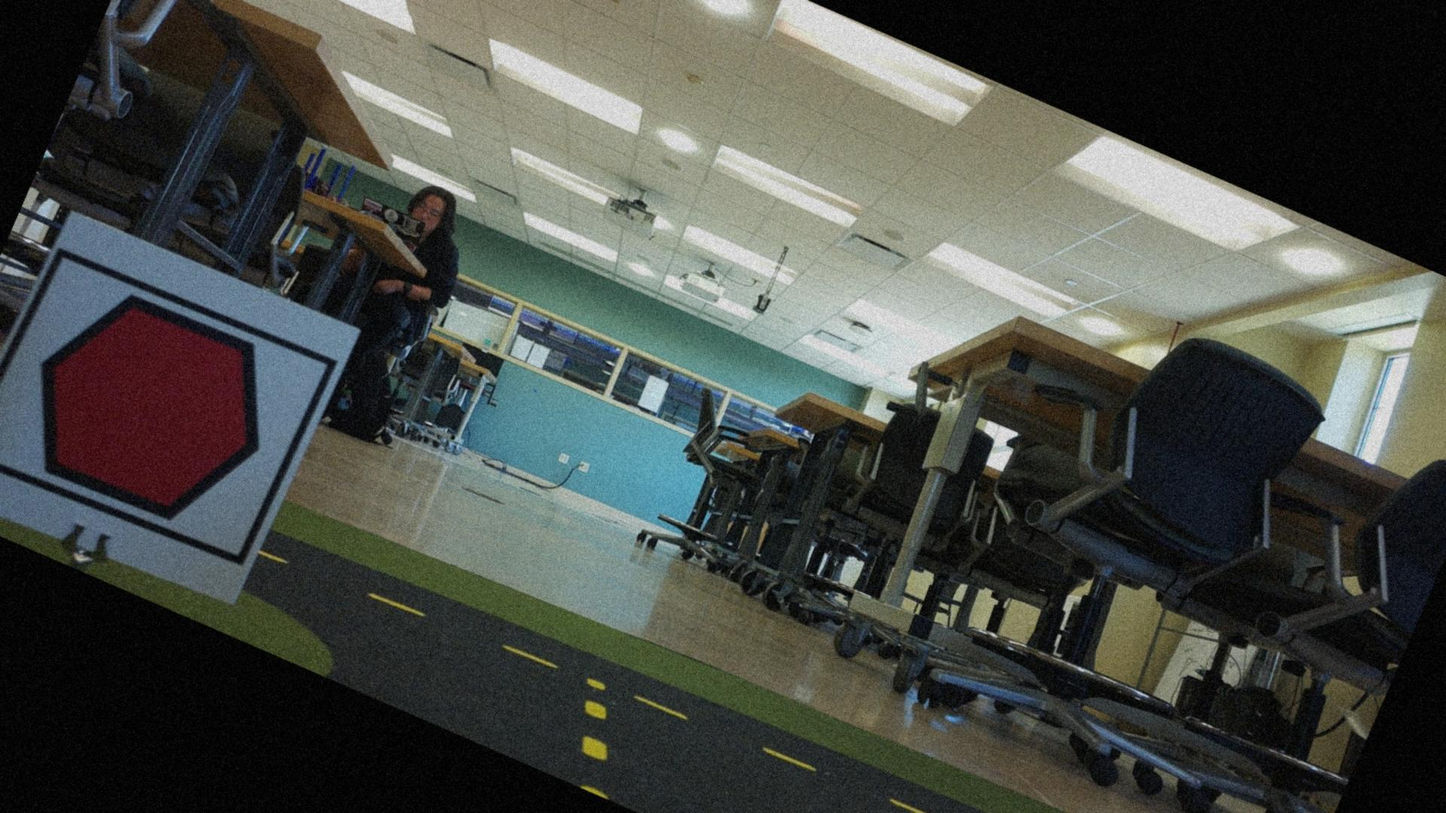stop: (0, 254, 319, 562)
yellowline: (559, 676, 632, 769)
